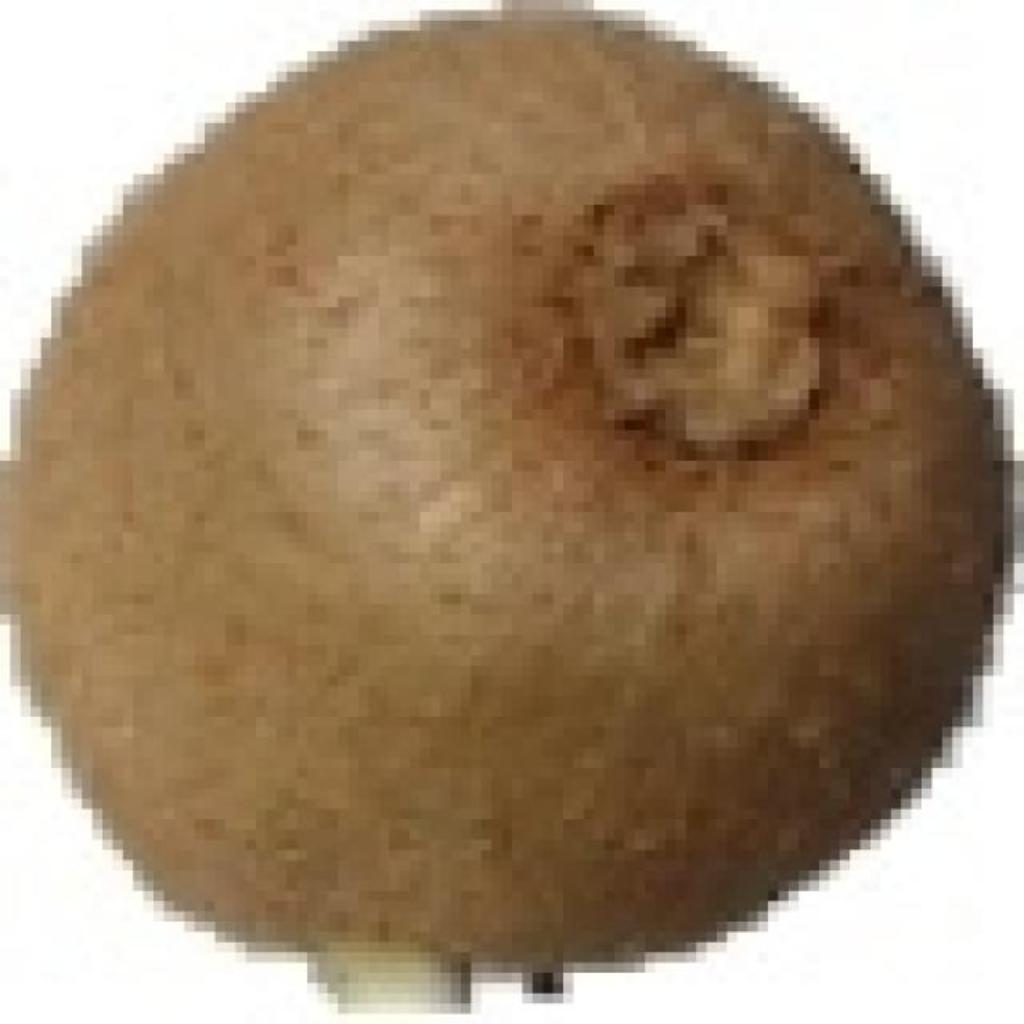kiwi: (0, 0, 983, 983), (850, 901, 963, 1004)
